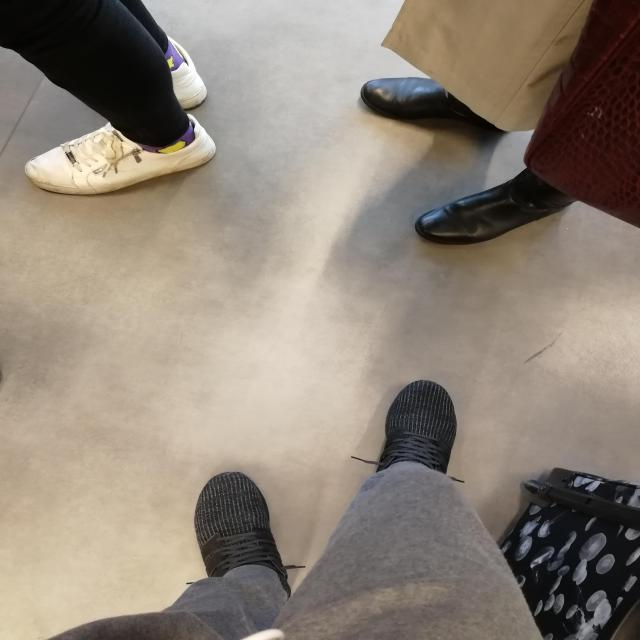shoes: (18, 101, 260, 202), (159, 444, 312, 595), (371, 375, 460, 486)
